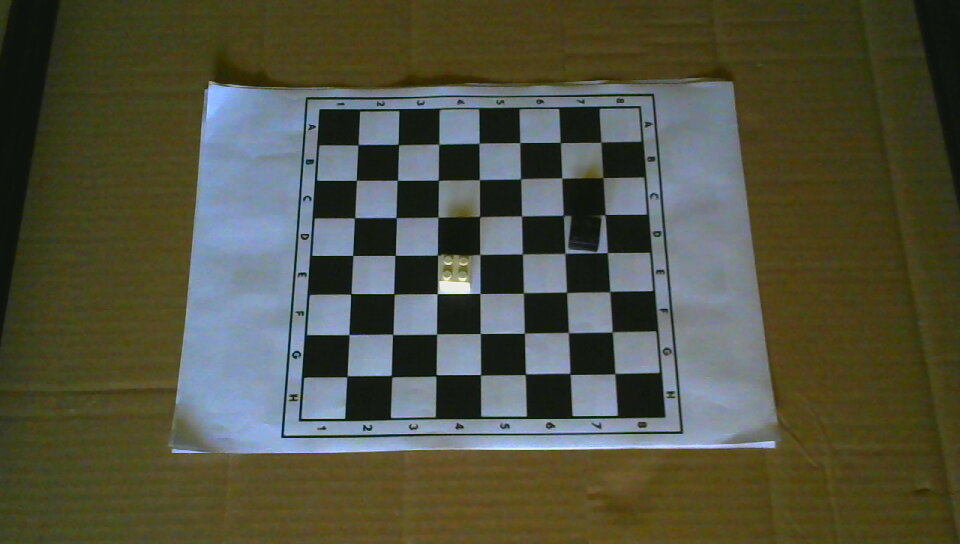bp: (568, 213, 602, 252)
wp: (439, 254, 472, 292)
